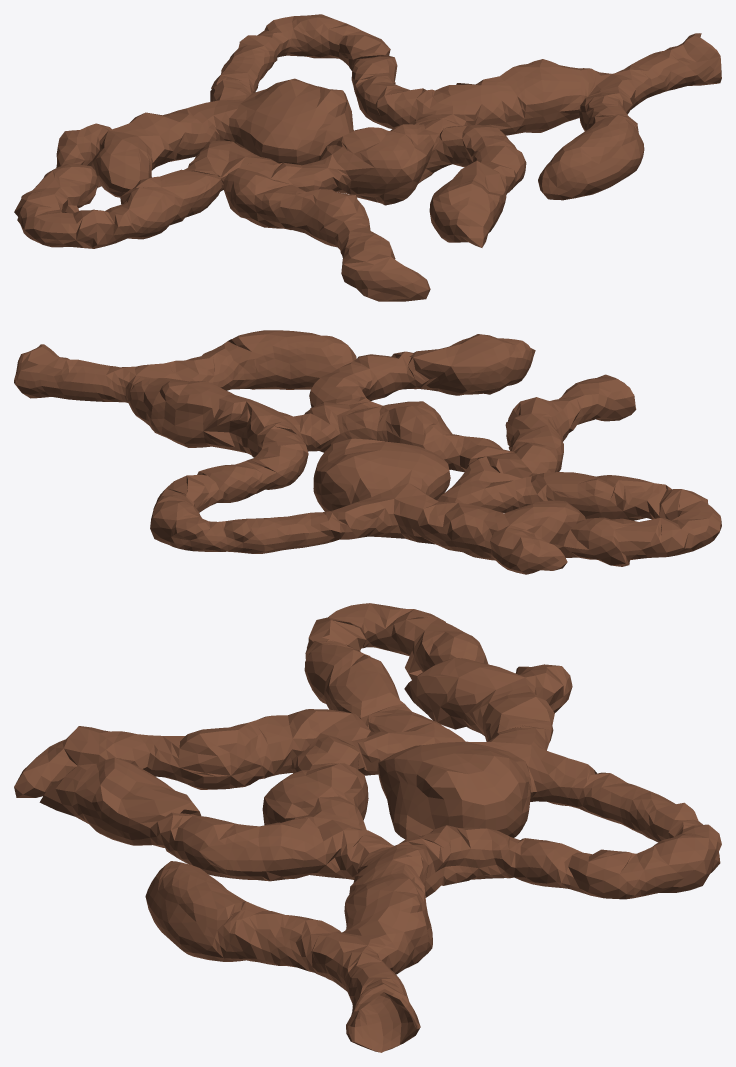
The model's file is BigCaveFinalFixedSibdivided.fbx.
3 renders of one model, top to bottom at view 1: azimuth 30°, elevation 25°; view 2: azimuth 150°, elevation 25°; view 3: azimuth 270°, elevation 25°, orthographic. The views are drawn at different scales.
Visible parts, largest first — view 1: ExactCave; view 2: ExactCave; view 3: ExactCave.
Part boxes in pixels (left/top/right/bottom): ExactCave: left=14, top=14, right=721, bottom=301; ExactCave: left=14, top=330, right=721, bottom=574; ExactCave: left=14, top=603, right=721, bottom=1052.
Bounding box in the file's own units: 1634 × 169 × 1181.
